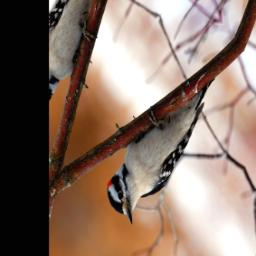Woodpecker: (97, 44, 225, 235)
